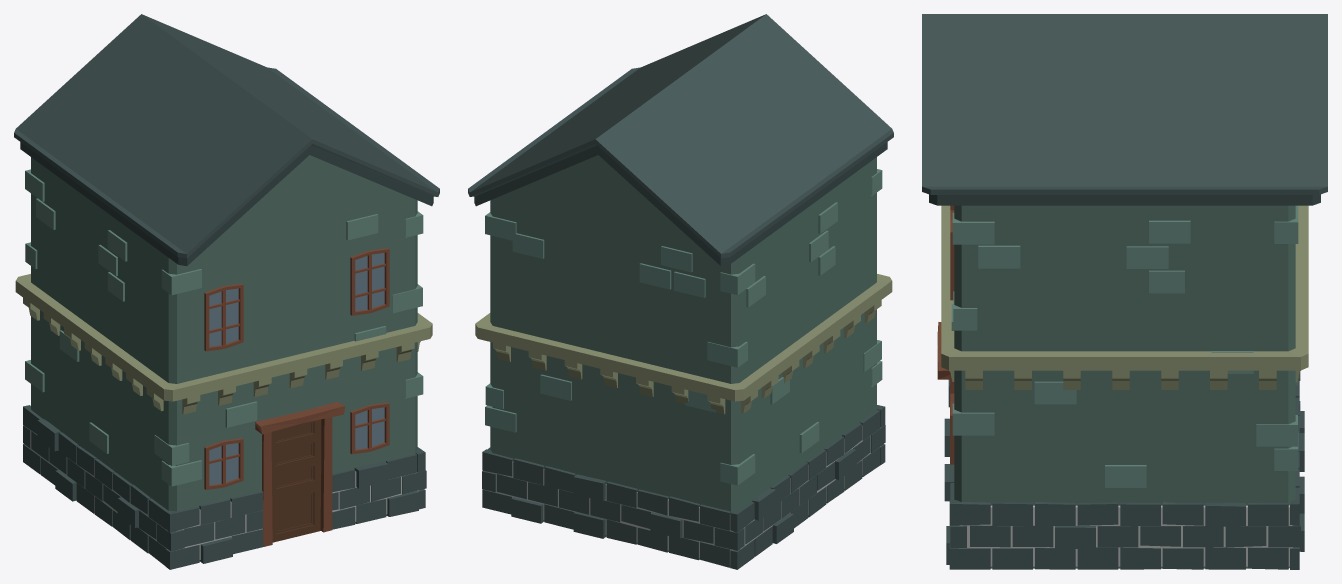
Rendered from 2Story_GableRoof.obj.
The picture shows the model from 3 angles, left to right: view 1: azimuth 30°, elevation 25°; view 2: azimuth 150°, elevation 25°; view 3: azimuth 270°, elevation 25°; orthographic projection. The views are drawn at different scales.
Size of the model in its own units: 2.16 by 3.13 by 2.38.
